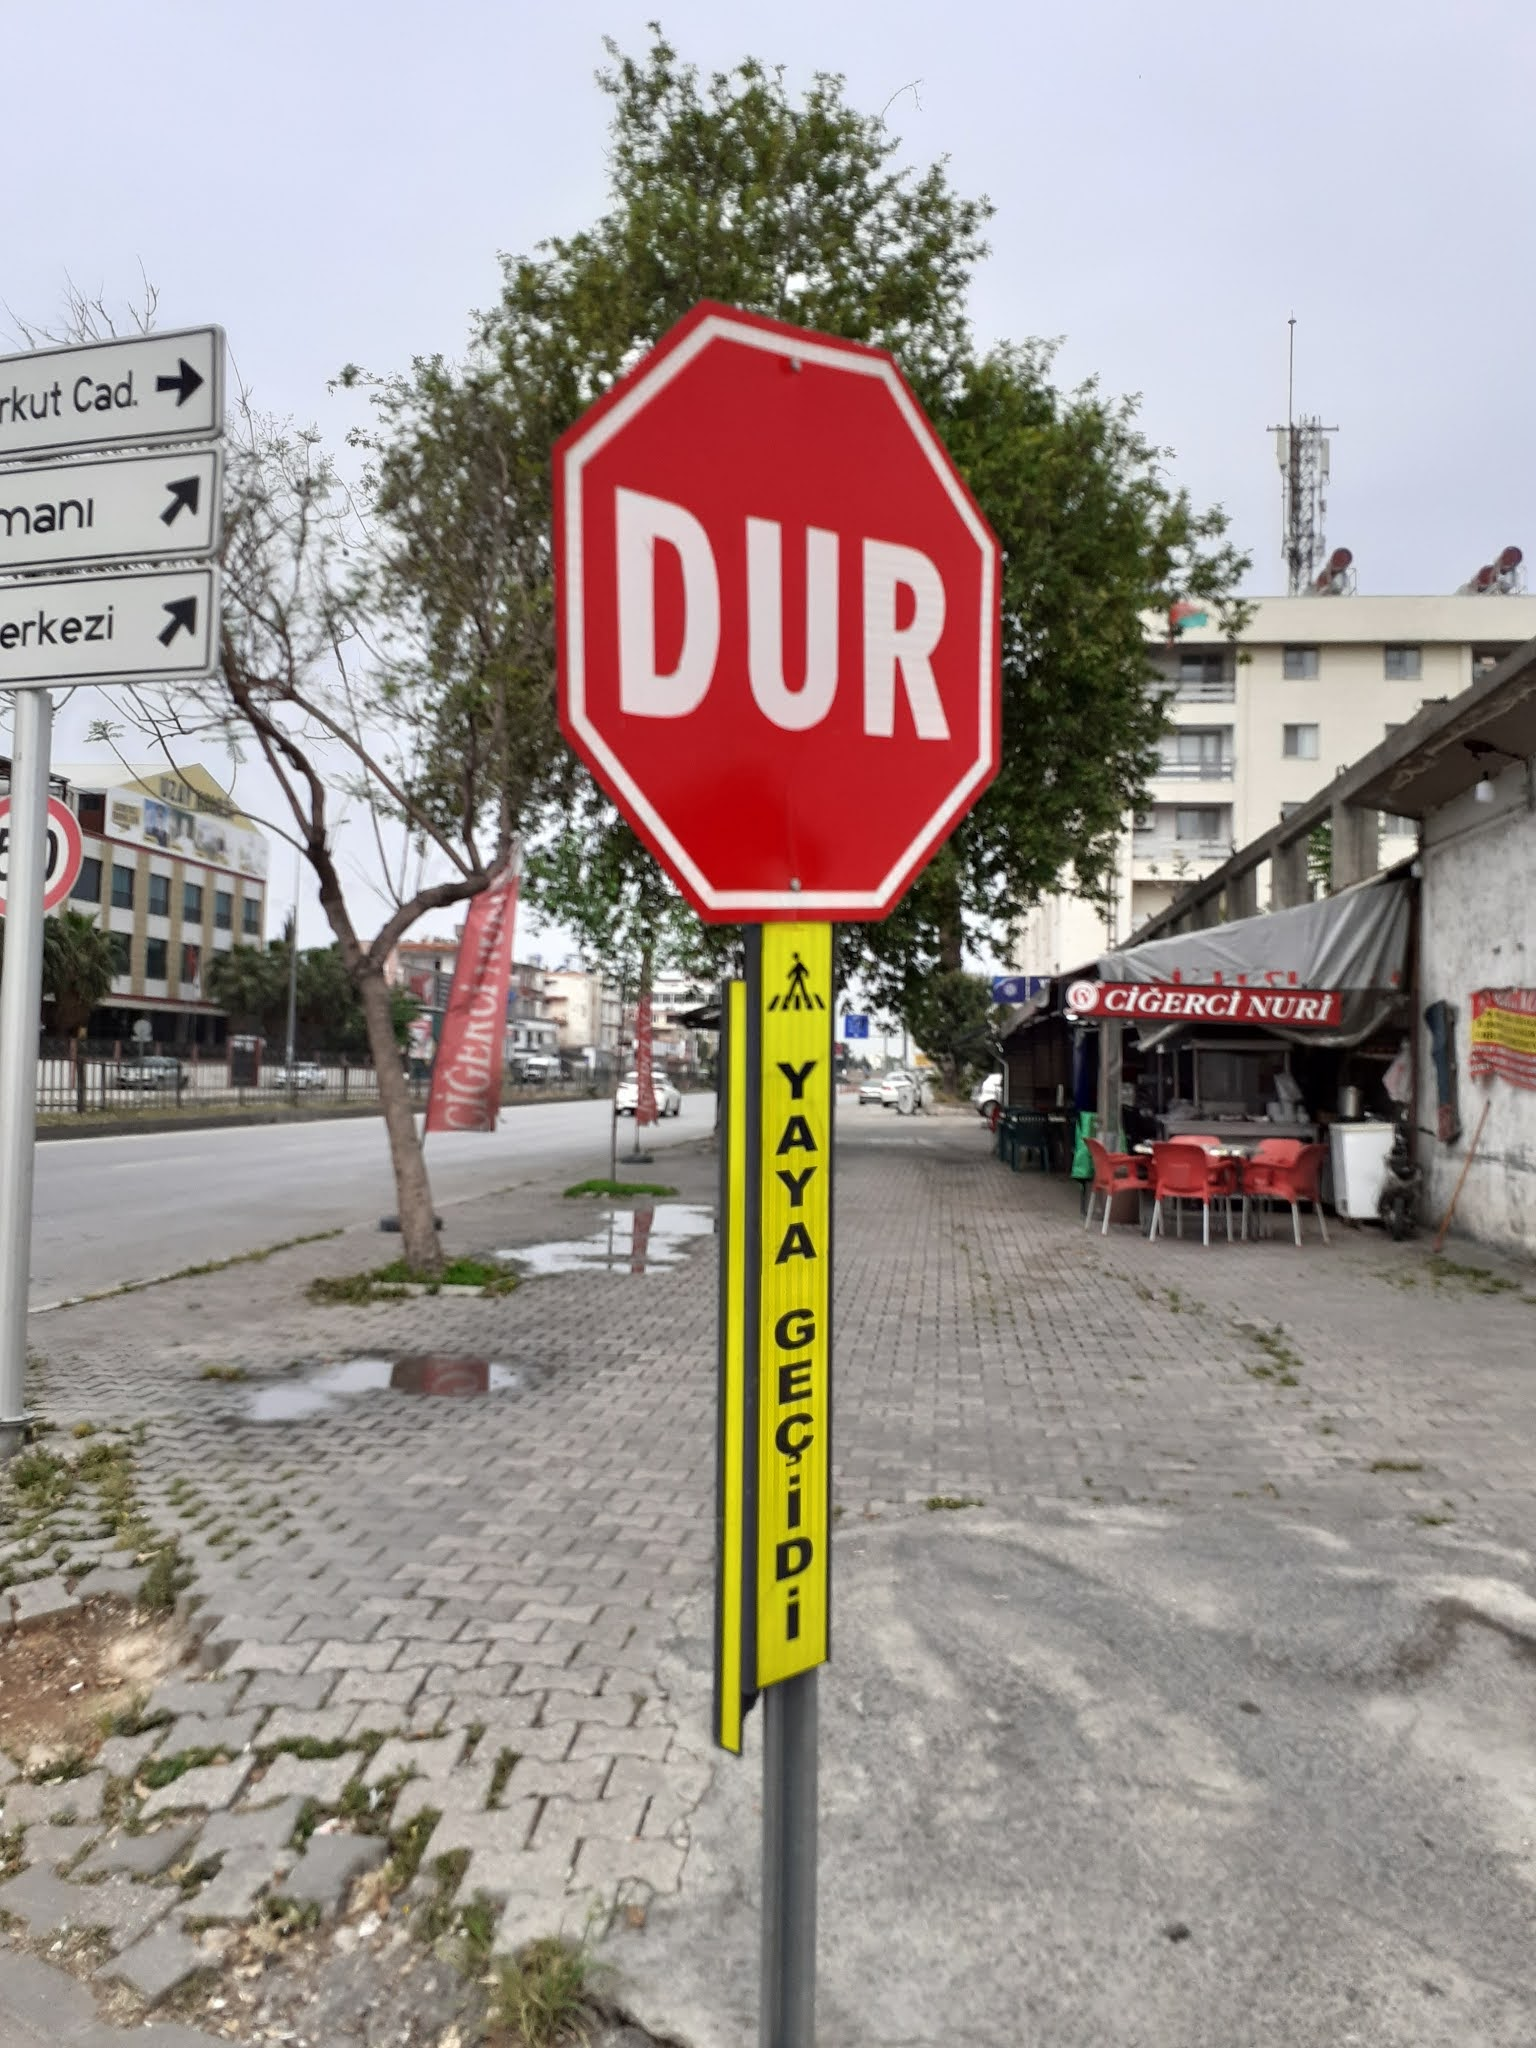dur: (544, 277, 1025, 930)
